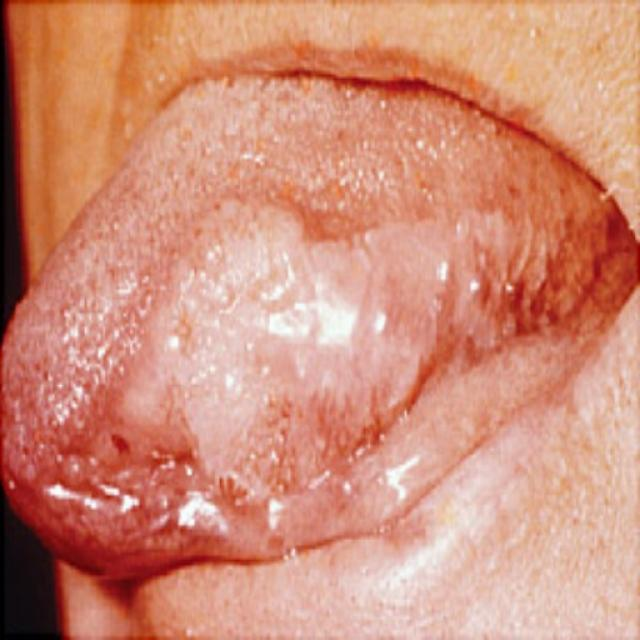cancer-detection: (21, 184, 639, 564)
processing_area: (10, 75, 637, 572)
